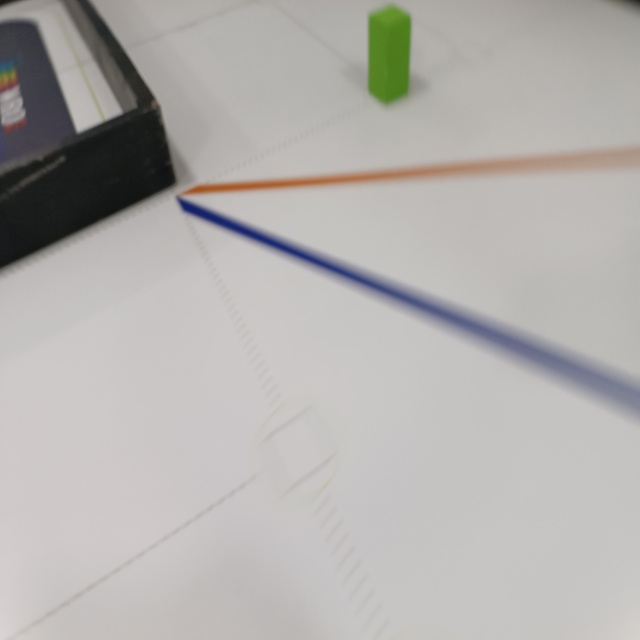blue line: (177, 198, 640, 420)
green rectangular prism: (362, 0, 416, 106)
orange line: (182, 138, 640, 201)
